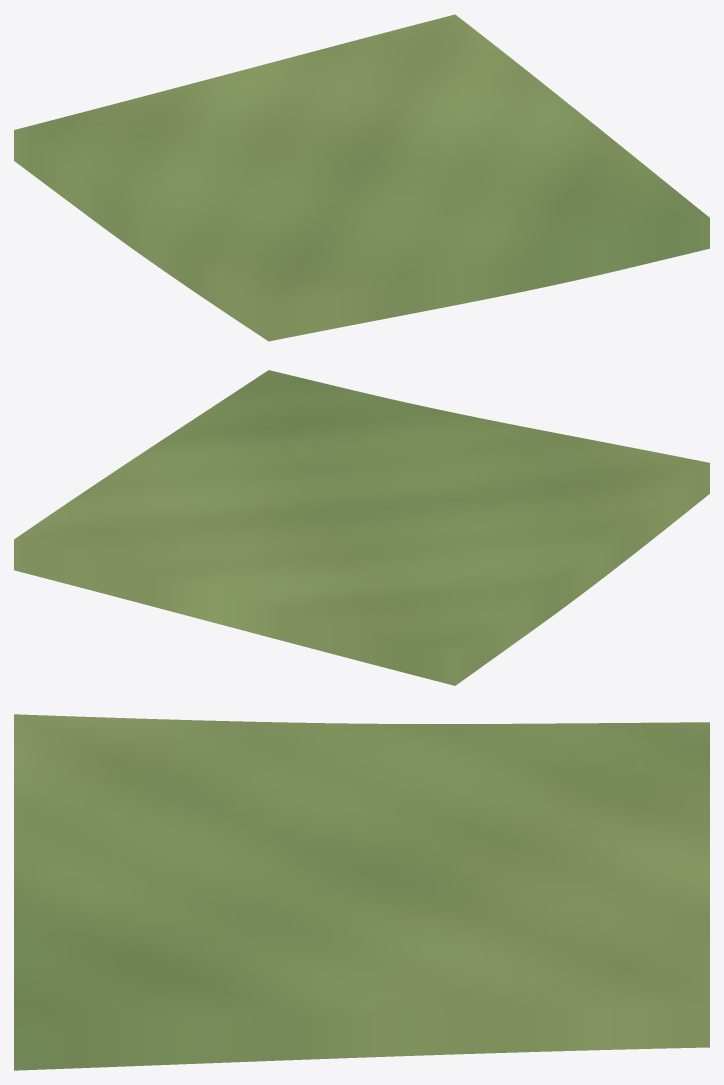
The picture shows the model from 3 angles, top to bottom: view 1: azimuth 30°, elevation 25°; view 2: azimuth 150°, elevation 25°; view 3: azimuth 270°, elevation 25°; orthographic projection. The views are drawn at different scales.
Visible parts, largest first — view 1: terrain; view 2: terrain; view 3: terrain.
Boxes of the visible parts, box(x1,y1,x2,y2) form: terrain: box(14, 14, 709, 341); terrain: box(14, 370, 709, 685); terrain: box(14, 714, 709, 1070).
Bounding box in the file's own units: 30 × 3.1 × 30.
